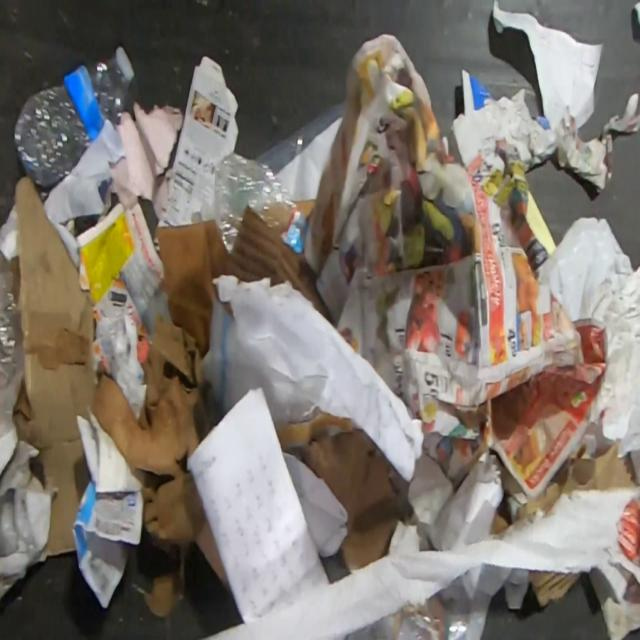cardboard: (0, 176, 97, 558), (156, 55, 239, 227), (526, 569, 580, 607), (517, 481, 560, 526)
rigid_plastic: (12, 45, 135, 189), (210, 151, 310, 255)
soft_plastic: (535, 215, 640, 458), (255, 98, 346, 173), (0, 269, 24, 438), (395, 606, 487, 640)
